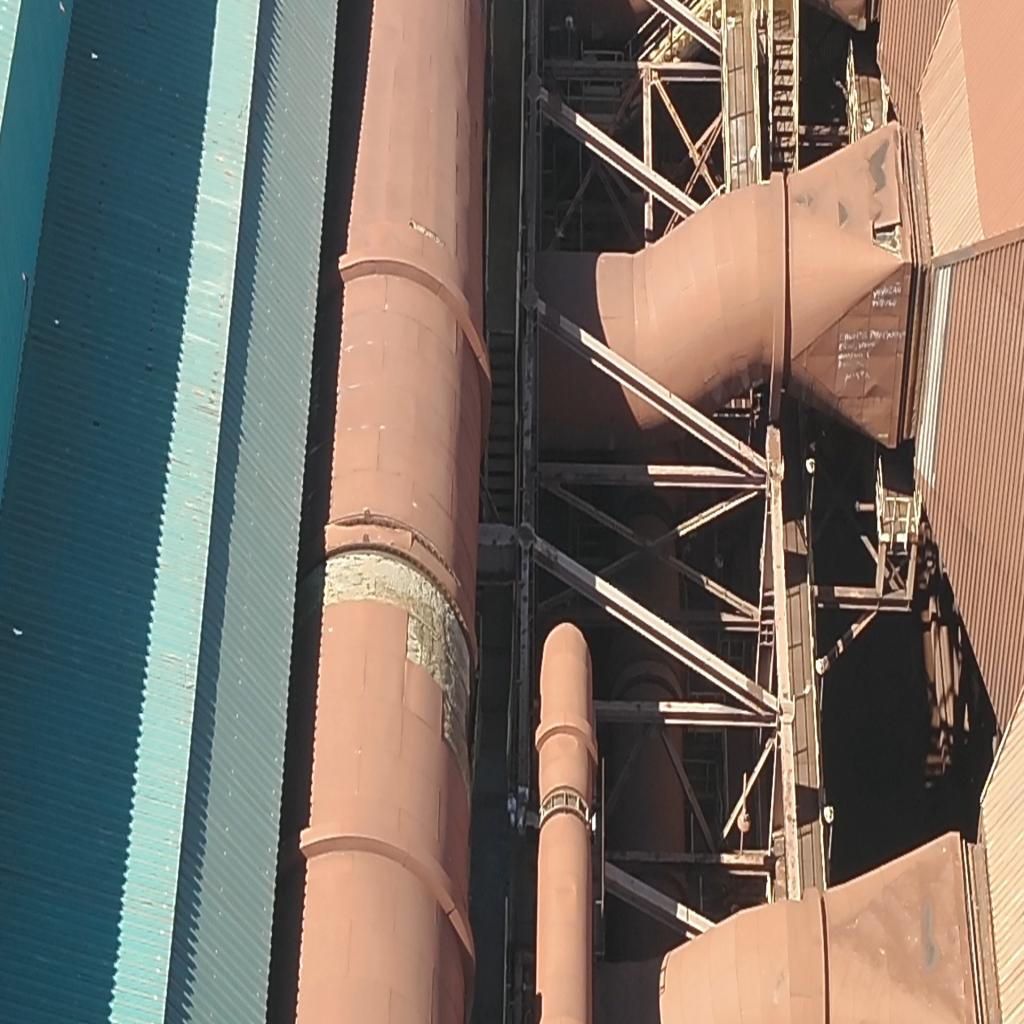Failures: (303, 528, 473, 777), (876, 206, 910, 259)
